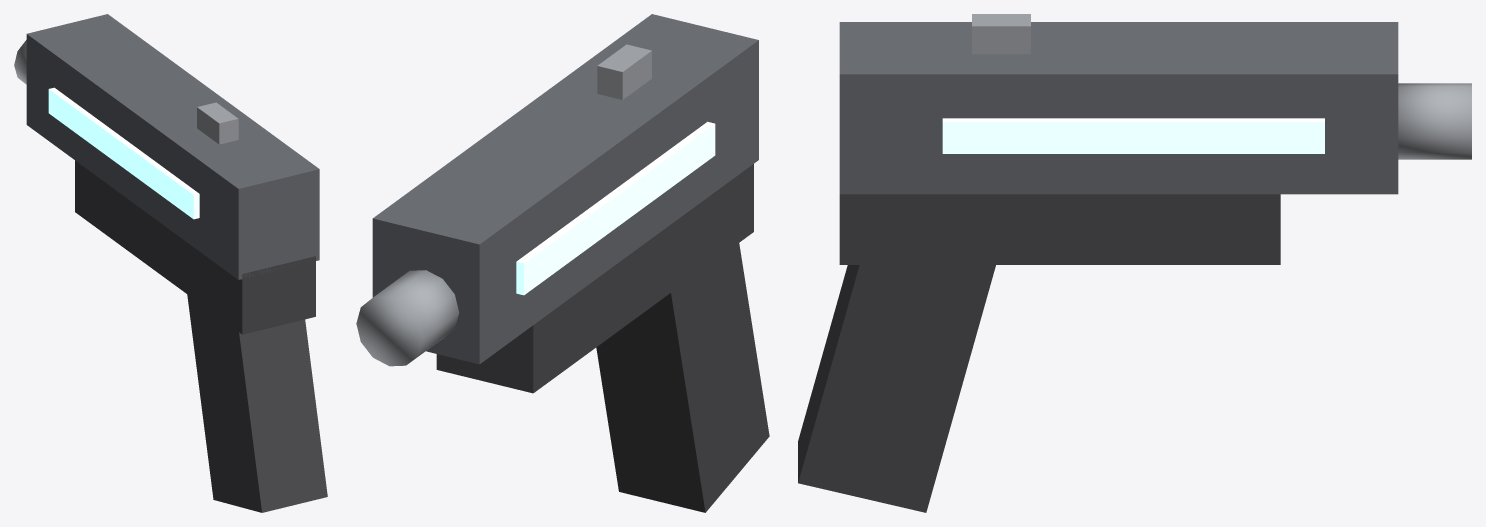
The model's file is pistol_held.gltf.
3 views of the same model, side by side, from view 1: azimuth 30°, elevation 25°; view 2: azimuth 150°, elevation 25°; view 3: azimuth 270°, elevation 25° (orthographic). The views are drawn at different scales.
Visible parts, largest first — view 1: pistol_held; view 2: pistol_held; view 3: pistol_held.
Boxes of the visible parts, x1,y1,x2,y2 form: pistol_held: (14,14,327,512); pistol_held: (356,14,769,512); pistol_held: (798,14,1471,512).
Bounding box in the file's own units: 0.048 × 0.177 × 0.2292.
